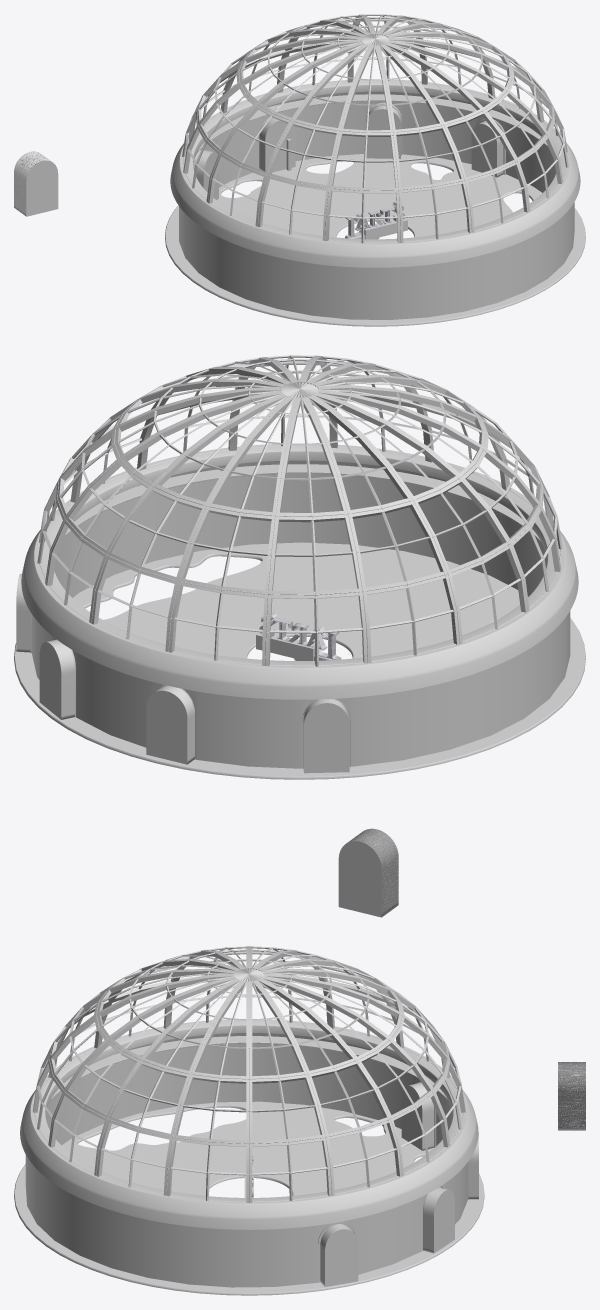
The model's file is Enviroment_01.fbx.
The picture shows the model from 3 angles, top to bottom: view 1: azimuth 30°, elevation 25°; view 2: azimuth 150°, elevation 25°; view 3: azimuth 270°, elevation 25°; orthographic projection. The views are drawn at different scales.
Visible parts, largest first — view 1: Cylinder.002, Cylinder.004, floor, Sphere.003, Sphere, Sphere.001, Sphere.002, BezierCircle.002, BezierCircle.005, BezierCircle.004, BezierCircle, BezierCircle.003 (+1 smaller); view 2: Cylinder.002, Cylinder.004, floor, Sphere.003, Sphere, Sphere.001, Sphere.002, BezierCircle.002, BezierCircle, BezierCircle.003, BezierCircle.004, BezierCircle.005 (+1 smaller); view 3: Cylinder.002, Cylinder.004, floor, Sphere.003, Sphere, Sphere.001, Sphere.002, BezierCircle.005, BezierCircle.002, BezierCircle.004, BezierCircle.003, BezierCircle.
Boxes of the visible parts, <box> form: Cylinder.002: <box>179,101,574,319</box>; Cylinder.004: <box>170,79,580,267</box>; floor: <box>165,154,585,326</box>; Sphere.003: <box>183,14,567,242</box>; Sphere: <box>182,14,568,243</box>; Sphere.001: <box>195,42,555,193</box>; Sphere.002: <box>236,17,514,136</box>; BezierCircle.002: <box>14,151,58,216</box>; BezierCircle.005: <box>471,120,503,177</box>; BezierCircle.004: <box>366,106,401,158</box>; BezierCircle: <box>259,117,295,172</box>; BezierCircle.003: <box>193,150,218,199</box>; Cylinder.002: <box>32,473,570,768</box>; Cylinder.004: <box>21,444,578,699</box>; floor: <box>14,542,585,779</box>; Sphere.003: <box>39,355,560,666</box>; Sphere: <box>37,355,562,666</box>; Sphere.001: <box>56,393,543,598</box>; Sphere.002: <box>111,359,488,522</box>; BezierCircle.002: <box>338,828,398,917</box>; BezierCircle: <box>146,685,194,764</box>; BezierCircle.003: <box>303,699,349,773</box>; BezierCircle.004: <box>39,639,74,719</box>; BezierCircle.005: <box>16,574,30,652</box>; Cylinder.002: <box>25,1043,467,1287</box>; Cylinder.004: <box>20,1019,478,1229</box>; floor: <box>14,1101,484,1295</box>; Sphere.003: <box>33,946,465,1202</box>; Sphere: <box>32,946,465,1202</box>; Sphere.001: <box>48,975,450,1146</box>; Sphere.002: <box>93,949,404,1083</box>; BezierCircle.005: <box>320,1224,358,1286</box>; BezierCircle.002: <box>558,1062,585,1130</box>; BezierCircle.004: <box>423,1187,454,1253</box>; BezierCircle.003: <box>401,1082,433,1150</box>; BezierCircle: <box>468,1133,478,1199</box>.
Size of the model in its own units: 2477 by 1371 by 2792.
